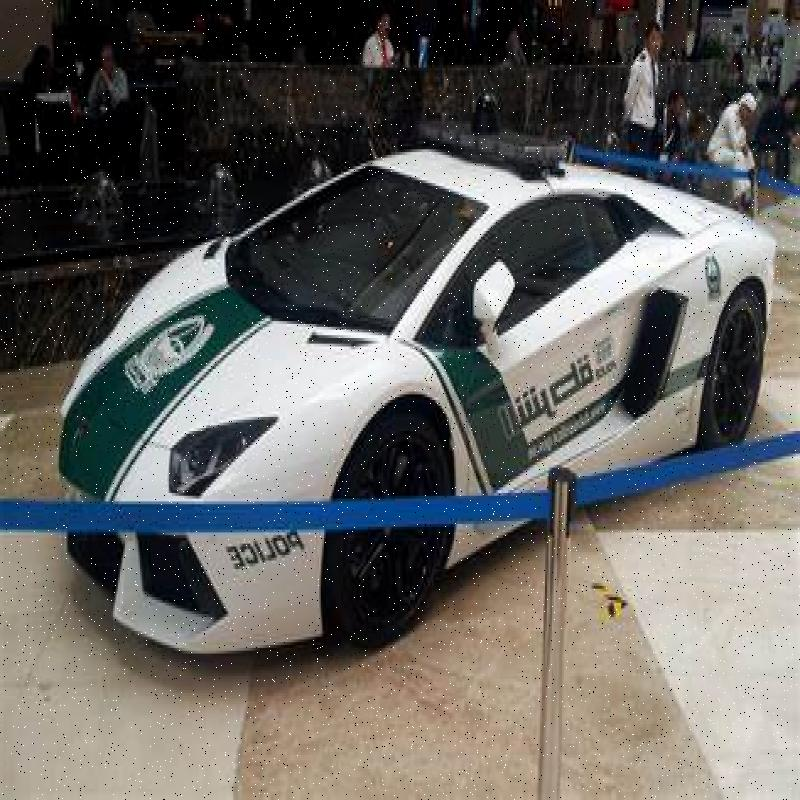AmbulanceSiren: (406, 104, 573, 181)
